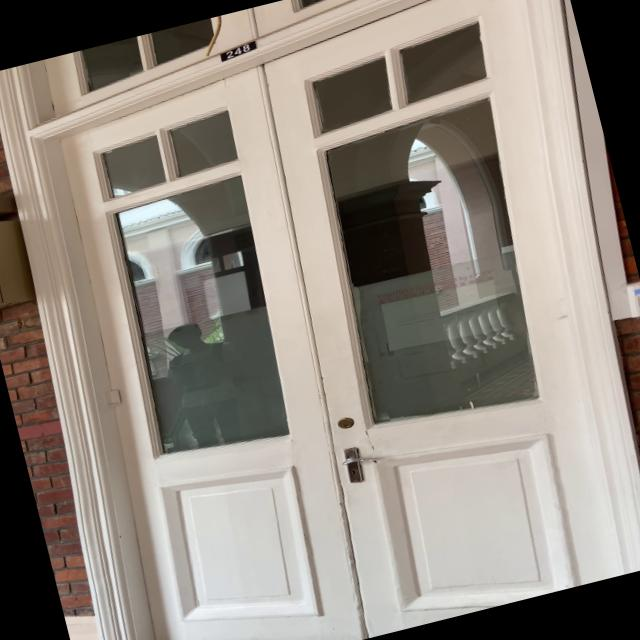room248: (209, 34, 267, 66)
